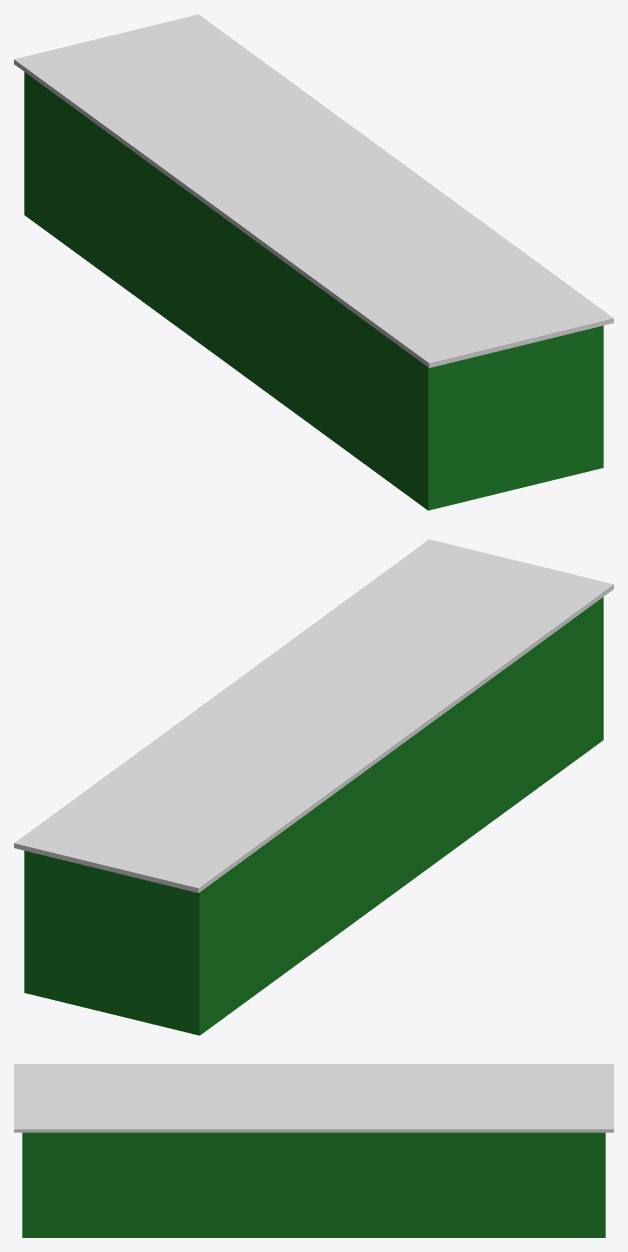
The model's file is table.fbx.
3 renders of one model, top to bottom at view 1: azimuth 30°, elevation 25°; view 2: azimuth 150°, elevation 25°; view 3: azimuth 270°, elevation 25°, orthographic. The views are drawn at different scales.
Parts seen in each view (by area): view 1: table; view 2: table; view 3: table.
Part boxes in pixels (box(x1,y1,x2,y2)): table: box(14, 14, 613, 510); table: box(14, 539, 613, 1035); table: box(14, 1064, 613, 1237).
Size of the model in its own units: 94.55 by 74.72 by 368.
